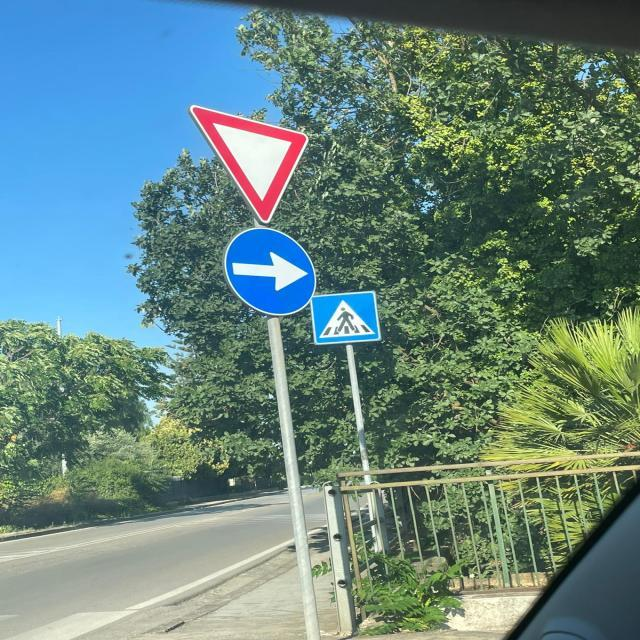info_crosswalk: (310, 290, 382, 346)
prio_give_way: (187, 101, 314, 229)
